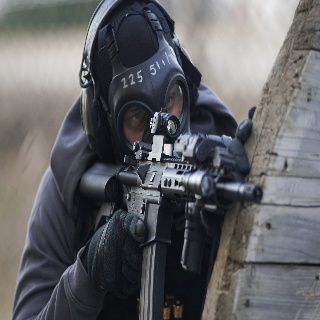rifle: (77, 108, 265, 320)
